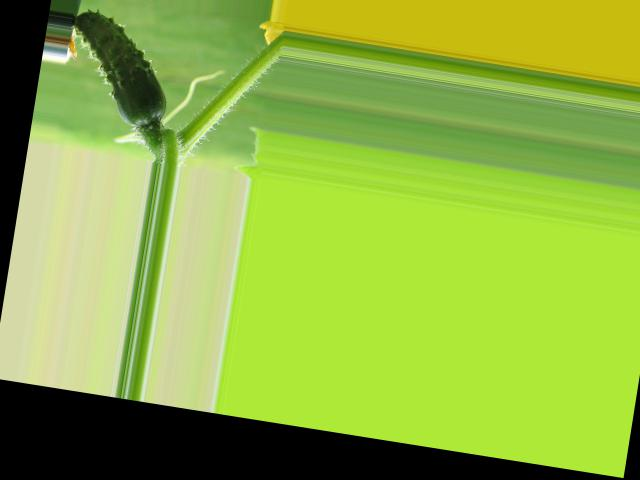cucumber: (60, 7, 181, 129)
